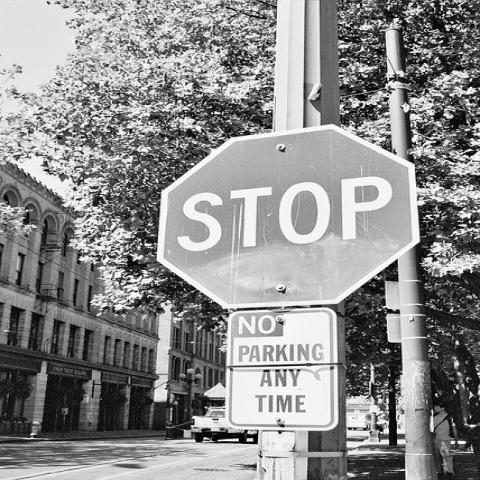truck: (191, 406, 262, 444), (346, 412, 372, 431)
